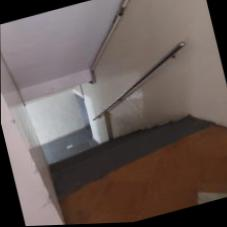Animal: (41, 112, 177, 190)
